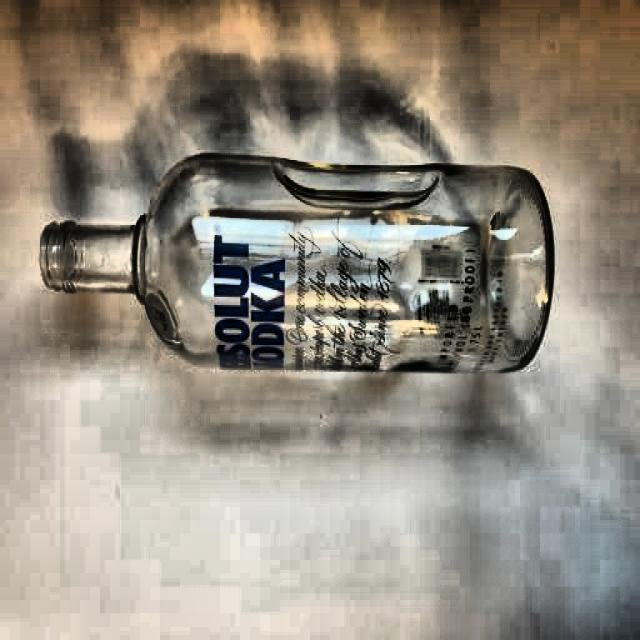glass: (41, 152, 556, 375)
